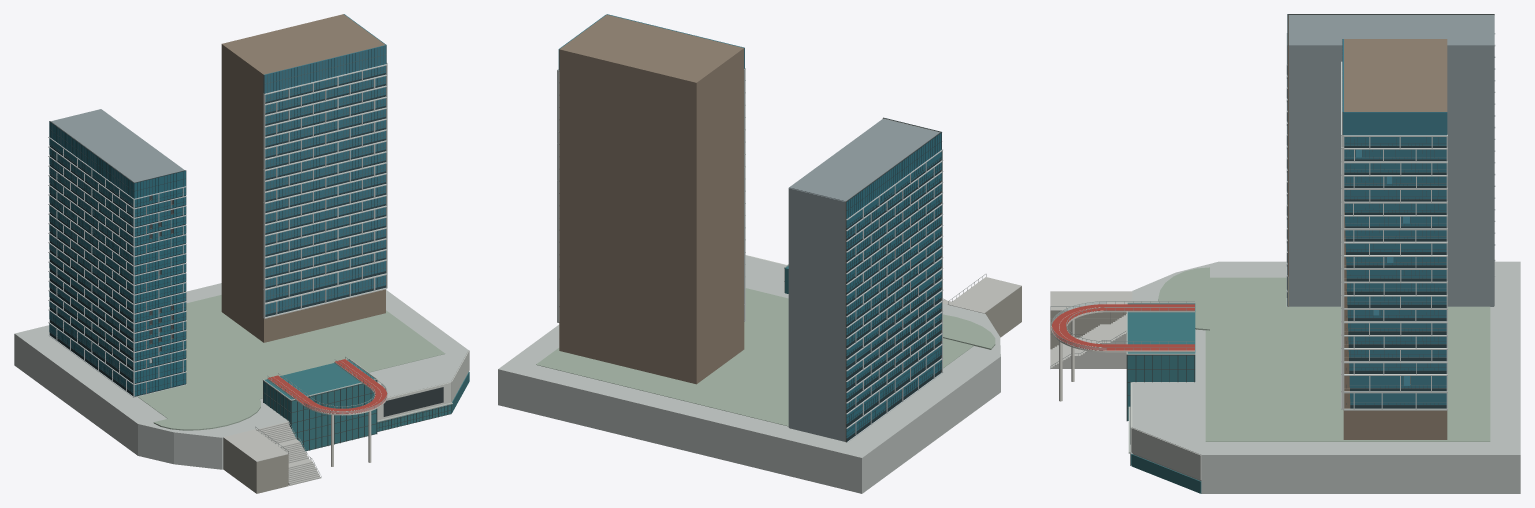
Rendered from detail.glb.
The picture shows the model from 3 angles, left to right: view 1: azimuth 30°, elevation 25°; view 2: azimuth 150°, elevation 25°; view 3: azimuth 270°, elevation 25°; orthographic projection. The views are drawn at different scales.
Parts seen in each view (by area): view 1: right_APPROX_blue_curtain_glass, left_Approx_blue_closed_glazing, right_HOLD_unknown_sides_roof_depth_base, ASSUMED_terrace_surface, ASSUMED_common_podium_stone, left_Approx_dark_mullion, right_APPROX_pale_horizontal_and_staggered_frame, right_APPROX_fine_dark_mullions, left_Approx_pale_metal_frame, G_visible_bluegreen_glazing, right_APPROX_dark_spandrel, left_Approx_spandrel_recess (+8 smaller); view 2: right_HOLD_unknown_sides_roof_depth_base, ASSUMED_common_podium_stone, left_ASSUMED_left_plain_far_shell, left_Approx_blue_closed_glazing, ASSUMED_terrace_surface, left_Approx_dark_mullion, left_Approx_pale_metal_frame, left_Approx_spandrel_recess, I_pale_stair_stone, right_APPROX_pale_horizontal_and_staggered_frame, I_terrace_warm_stone, left_HOLD_shallow_display_backing_NOT_tower_depth; view 3: left_ASSUMED_left_plain_far_shell, ASSUMED_common_podium_stone, ASSUMED_terrace_surface, right_APPROX_blue_curtain_glass, right_HOLD_unknown_sides_roof_depth_base, right_APPROX_pale_horizontal_and_staggered_frame, right_APPROX_dark_spandrel, G_visible_bluegreen_glazing, right_APPROX_fine_dark_mullions, I_pale_stair_stone, H_observed_red_track, G_observed_white_screen_surround (+6 smaller).
Part boxes in pixels (box(x1,y1,x2,y2)): right_APPROX_blue_curtain_glass: box(263, 14, 386, 314); left_Approx_blue_closed_glazing: box(49, 122, 185, 395); right_HOLD_unknown_sides_roof_depth_base: box(221, 14, 385, 342); ASSUMED_terrace_surface: box(138, 295, 445, 430); ASSUMED_common_podium_stone: box(14, 283, 468, 469); left_Approx_dark_mullion: box(49, 121, 186, 395); right_APPROX_pale_horizontal_and_staggered_frame: box(263, 63, 387, 318); right_APPROX_fine_dark_mullions: box(264, 45, 386, 313); left_Approx_pale_metal_frame: box(48, 137, 186, 397); G_visible_bluegreen_glazing: box(263, 359, 469, 450); right_APPROX_dark_spandrel: box(265, 73, 385, 316); left_Approx_spandrel_recess: box(49, 146, 185, 396); right_HOLD_unknown_sides_roof_depth_base: box(559, 14, 744, 384); ASSUMED_common_podium_stone: box(498, 255, 1000, 493); left_ASSUMED_left_plain_far_shell: box(788, 118, 939, 441); left_Approx_blue_closed_glazing: box(846, 133, 941, 438); ASSUMED_terrace_surface: box(536, 288, 995, 426); left_Approx_dark_mullion: box(846, 117, 941, 438); left_Approx_pale_metal_frame: box(846, 149, 943, 442); left_Approx_spandrel_recess: box(846, 160, 941, 441); I_pale_stair_stone: box(943, 277, 1021, 313); right_APPROX_pale_horizontal_and_staggered_frame: box(557, 68, 745, 322); I_terrace_warm_stone: box(985, 286, 1021, 337); left_HOLD_shallow_display_backing_NOT_tower_depth: box(845, 118, 941, 441); left_ASSUMED_left_plain_far_shell: box(1289, 15, 1494, 306); ASSUMED_common_podium_stone: box(1132, 261, 1520, 493); ASSUMED_terrace_surface: box(1158, 267, 1490, 441); right_APPROX_blue_curtain_glass: box(1342, 39, 1447, 404); right_HOLD_unknown_sides_roof_depth_base: box(1343, 39, 1447, 439); right_APPROX_pale_horizontal_and_staggered_frame: box(1341, 61, 1447, 410); right_APPROX_dark_spandrel: box(1344, 146, 1446, 408); G_visible_bluegreen_glazing: box(1127, 303, 1201, 493); right_APPROX_fine_dark_mullions: box(1342, 39, 1446, 405); I_pale_stair_stone: box(1050, 291, 1132, 368); H_observed_red_track: box(1051, 304, 1194, 350); G_observed_white_screen_surround: box(1130, 382, 1201, 479).
Bounding box in the file's own units: 106 × 94 × 109.
